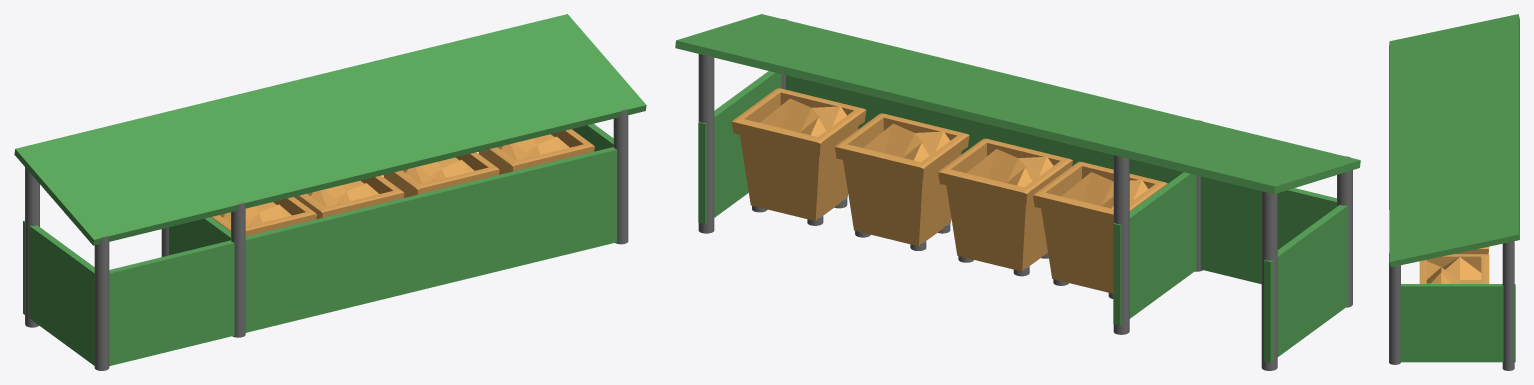
The model's file is мусорка.fbx.
3 renders of one model, left to right at view 1: azimuth 30°, elevation 25°; view 2: azimuth 150°, elevation 25°; view 3: azimuth 270°, elevation 25°, orthographic. The views are drawn at different scales.
Parts seen in each view (by area): view 1: Cube.003, Cube, Cube.007, Cube.004, Cube.001, Cube.005, Cylinder.021, Cube.006, Cylinder.002, Cylinder, Cube.008, Cylinder.020 (+1 smaller); view 2: Cube.003, Cube, Cube.004, Cube.001, Cube.005, Cube.006, Cube.007, Cube.008, Cube.002, Cylinder.001, Cylinder.003, Cylinder.020 (+1 smaller); view 3: Cube.003, Cube.002, Cube.001, Cylinder.003, Cylinder.002, Cube.004.
Boxes of the visible parts, x1,y1,x2,y2 form: Cube.003: (14,14,646,245); Cube: (109,147,617,365); Cube.007: (23,220,94,365); Cube.004: (383,152,499,197); Cube.001: (478,129,594,174); Cube.005: (294,175,404,219); Cylinder.021: (94,235,109,370); Cube.006: (211,197,316,236); Cylinder.002: (613,109,628,244); Cylinder: (231,202,245,337); Cube.008: (169,217,230,255); Cylinder.020: (25,167,39,327); Cube.003: (675,14,1360,194); Cube: (785,75,1336,284); Cube.004: (835,113,969,246); Cube.001: (731,88,866,220); Cube.005: (938,138,1072,271); Cube.006: (1033,161,1167,293); Cube.007: (1264,205,1348,362); Cube.008: (1113,172,1196,325); Cube.002: (698,71,781,224); Cylinder.001: (1113,155,1129,334); Cylinder.003: (698,54,714,233); Cylinder.020: (1261,191,1277,370); Cube.003: (1389,14,1519,267); Cube.002: (1400,284,1515,362); Cube.001: (1419,254,1489,283); Cylinder.003: (1502,241,1514,370); Cylinder.002: (1389,252,1400,364); Cube.004: (1455,246,1489,254).
Size of the model in its own units: 866 by 261 by 217.
